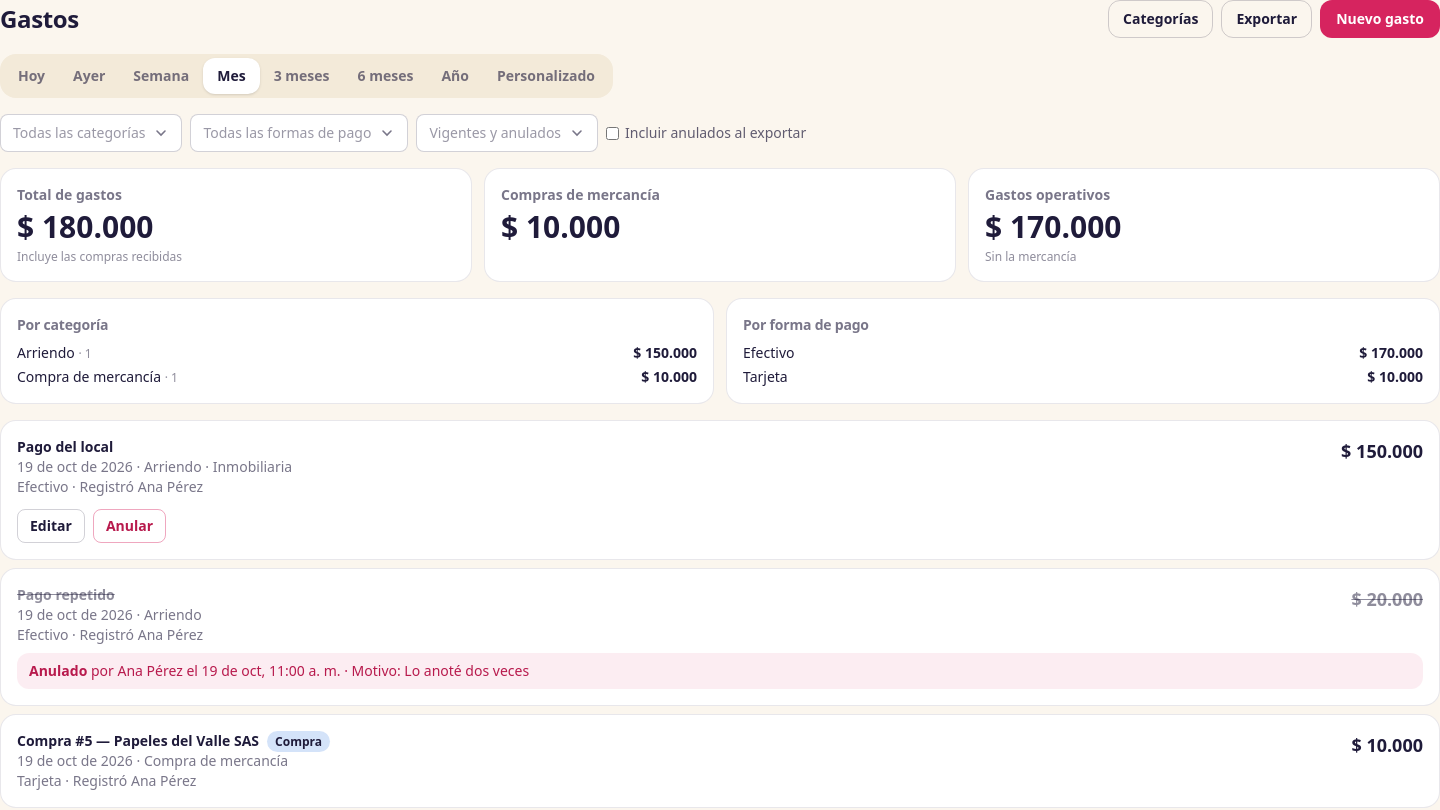
Scenario: Gastos — administrador › para anular pide el motivo y lo envía
Expected: the text "Pago del local" is shown, [17,437,113,456]
Click the button with aria-label "Anular Pago del local" at [129, 526], box [93,509,166,543]
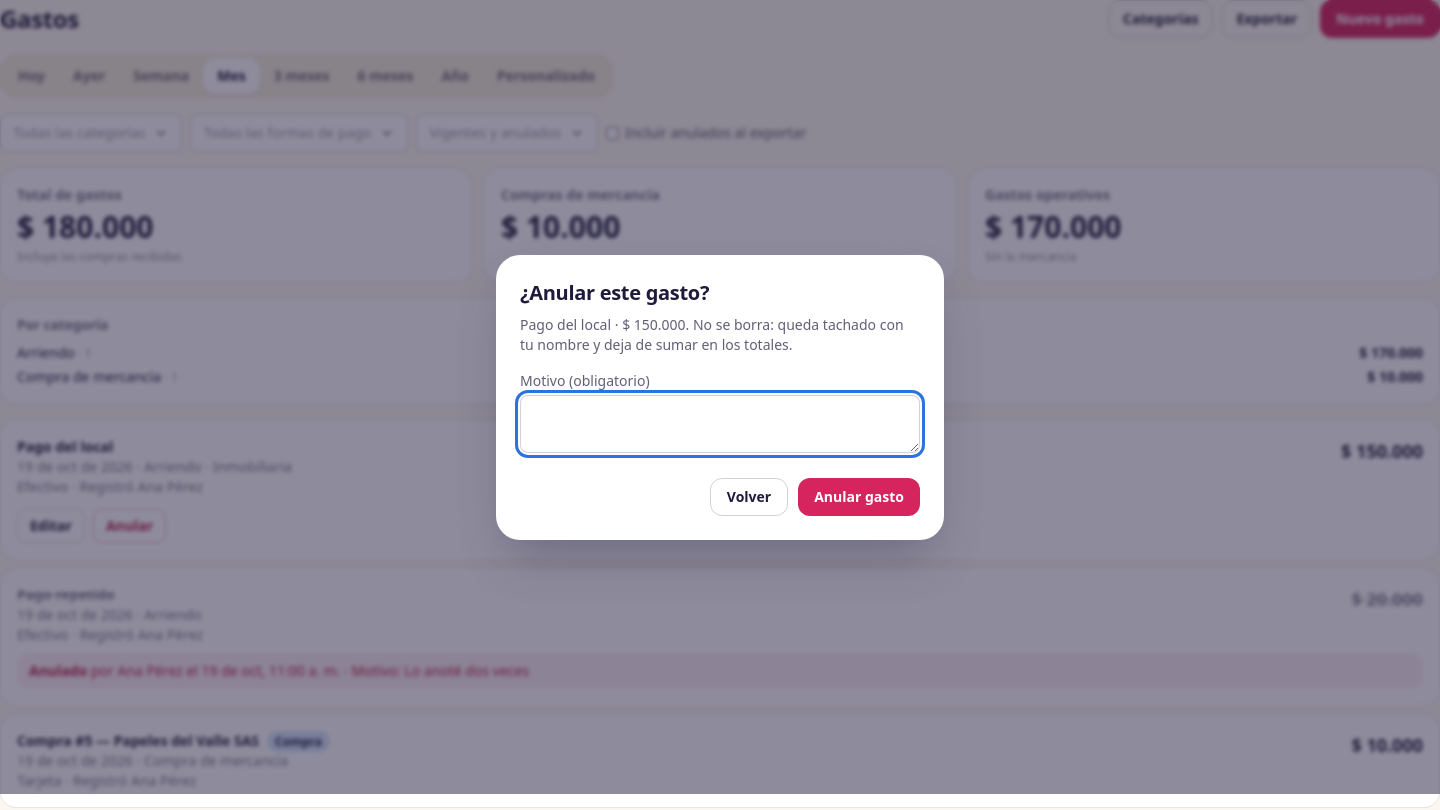
Click the button "Anular gasto" at [859, 496], box [798,478,920,516]
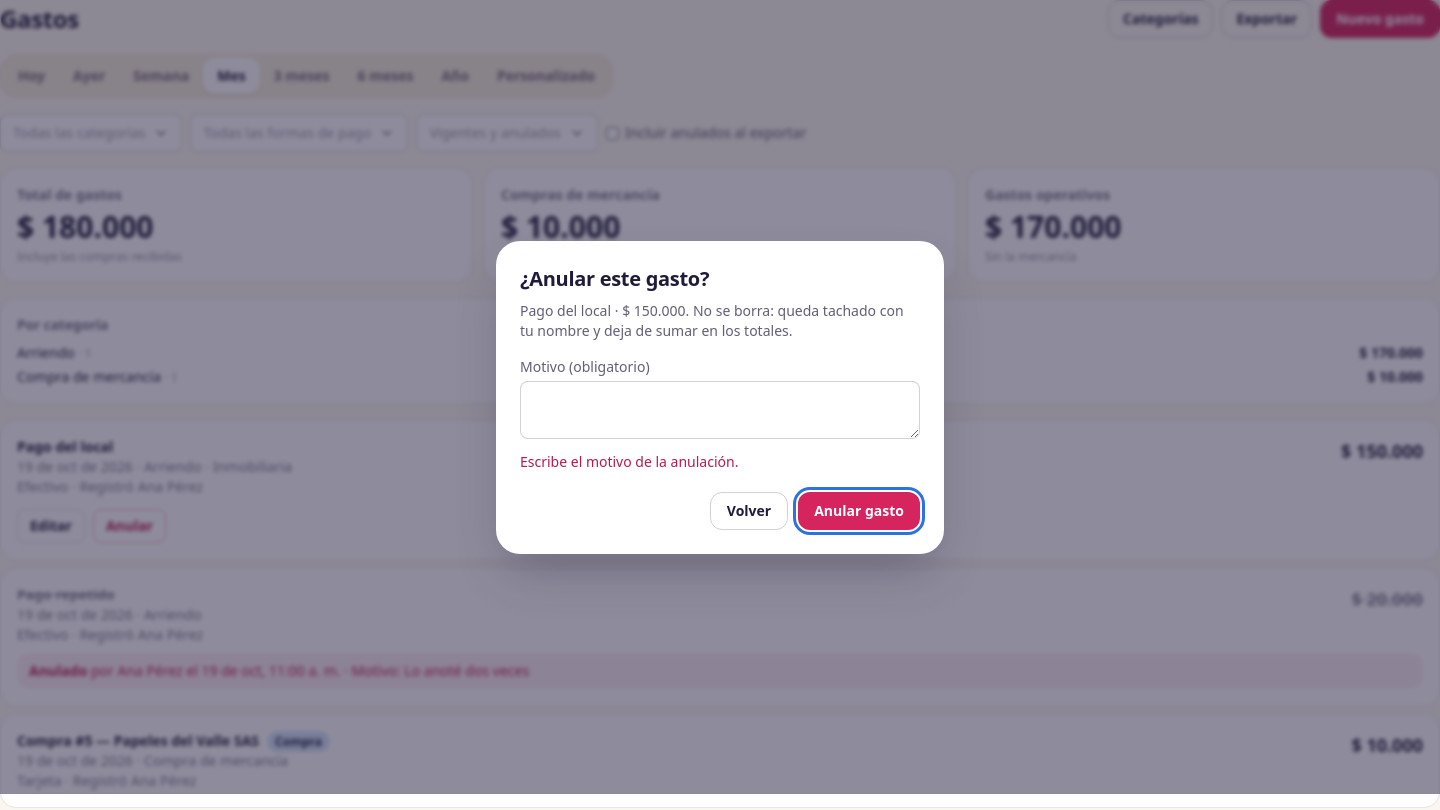
Expected: the message shows "Escribe el motivo", [520,452,738,470]
Type "Monto mal digitado" into the text box at [720, 410], box [520,380,920,438]
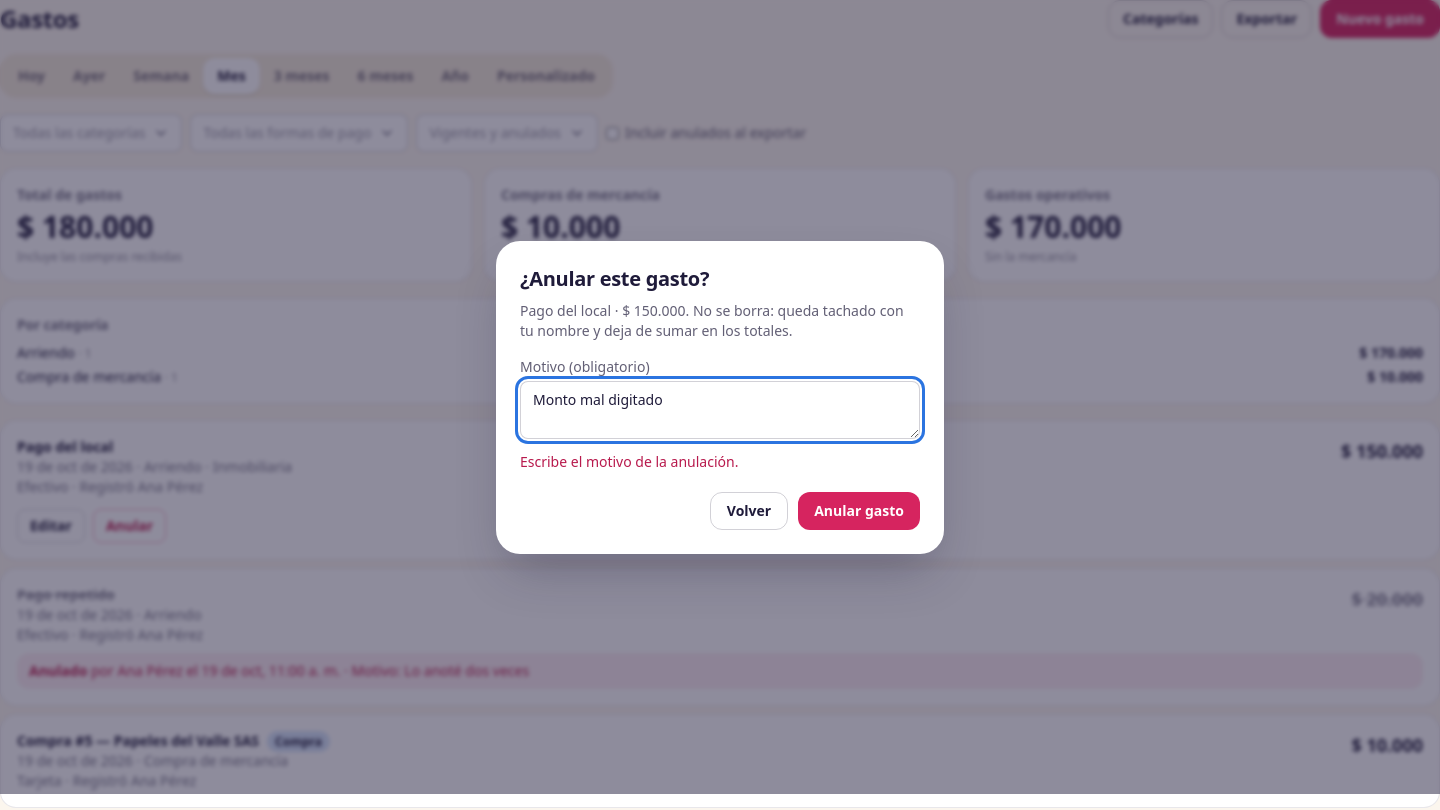
Click the button "Anular gasto" at [859, 510], box [798,492,920,530]
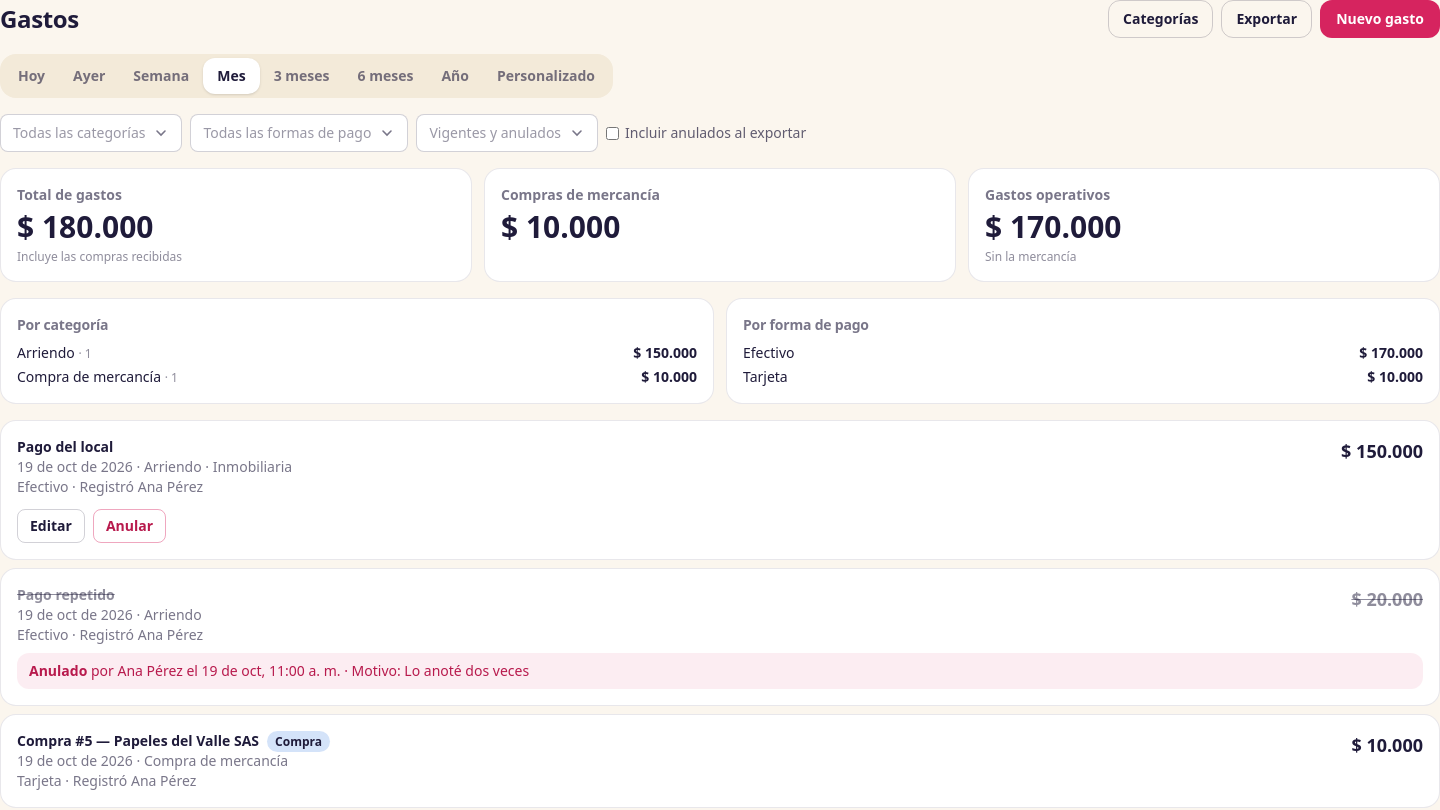
Expected: the dialog is gone
